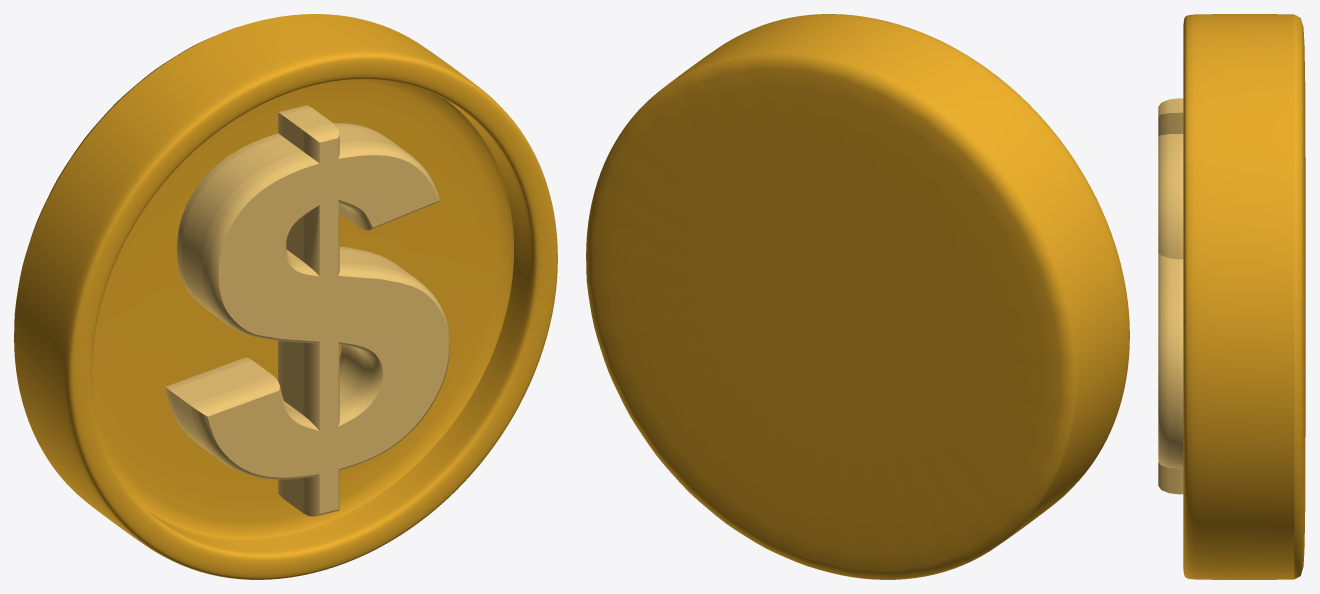
Rendered from goldRotateAni.fbx.
3 renders of one model, left to right at view 1: azimuth 30°, elevation 25°; view 2: azimuth 150°, elevation 25°; view 3: azimuth 270°, elevation 25°, orthographic.
Visible parts, largest first — view 1: goldRotateAni; view 2: goldRotateAni; view 3: goldRotateAni.
Part boxes in pixels (x1,y1,x2,y2): goldRotateAni: [14, 14, 557, 579]; goldRotateAni: [586, 14, 1129, 579]; goldRotateAni: [1158, 14, 1305, 579].
Size of the model in its own units: 92.29 by 92.29 by 23.98.
